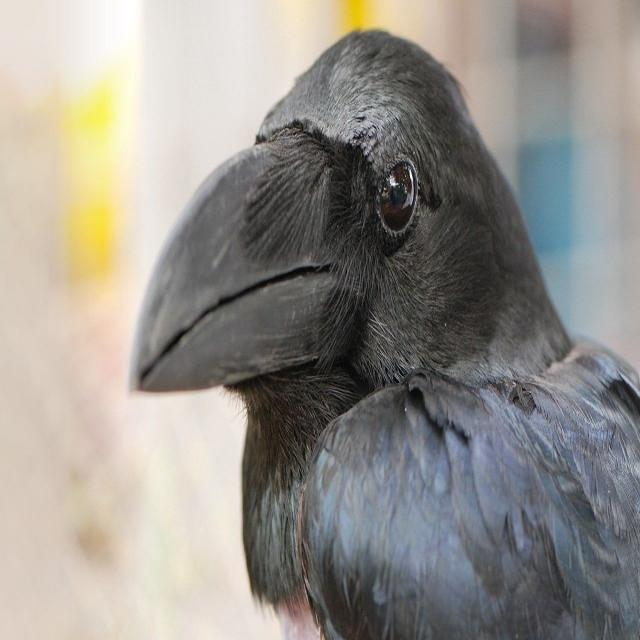crow: (111, 21, 640, 640)
